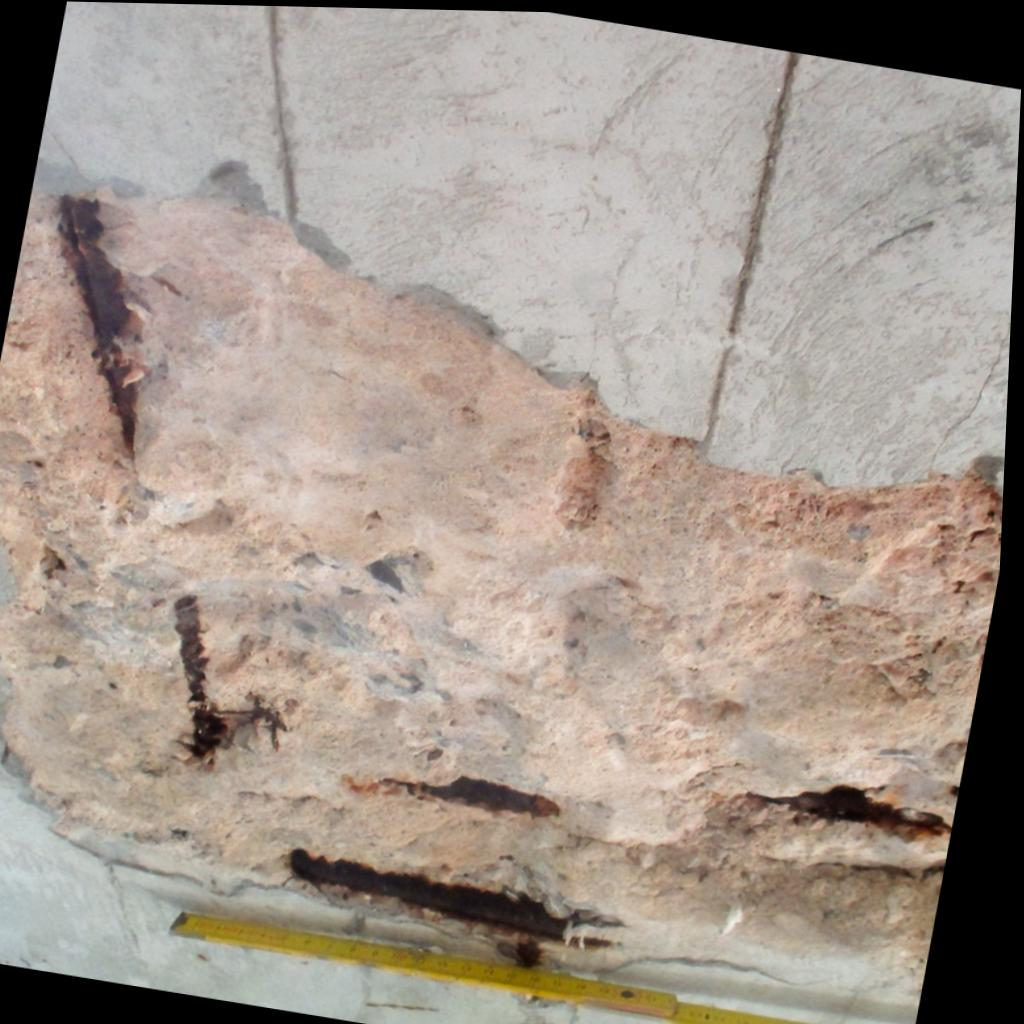exposed_rebar: (289, 849, 569, 941), (59, 195, 145, 452), (174, 594, 285, 760), (749, 785, 952, 835), (383, 776, 560, 818)
spalling: (0, 171, 1003, 995)
